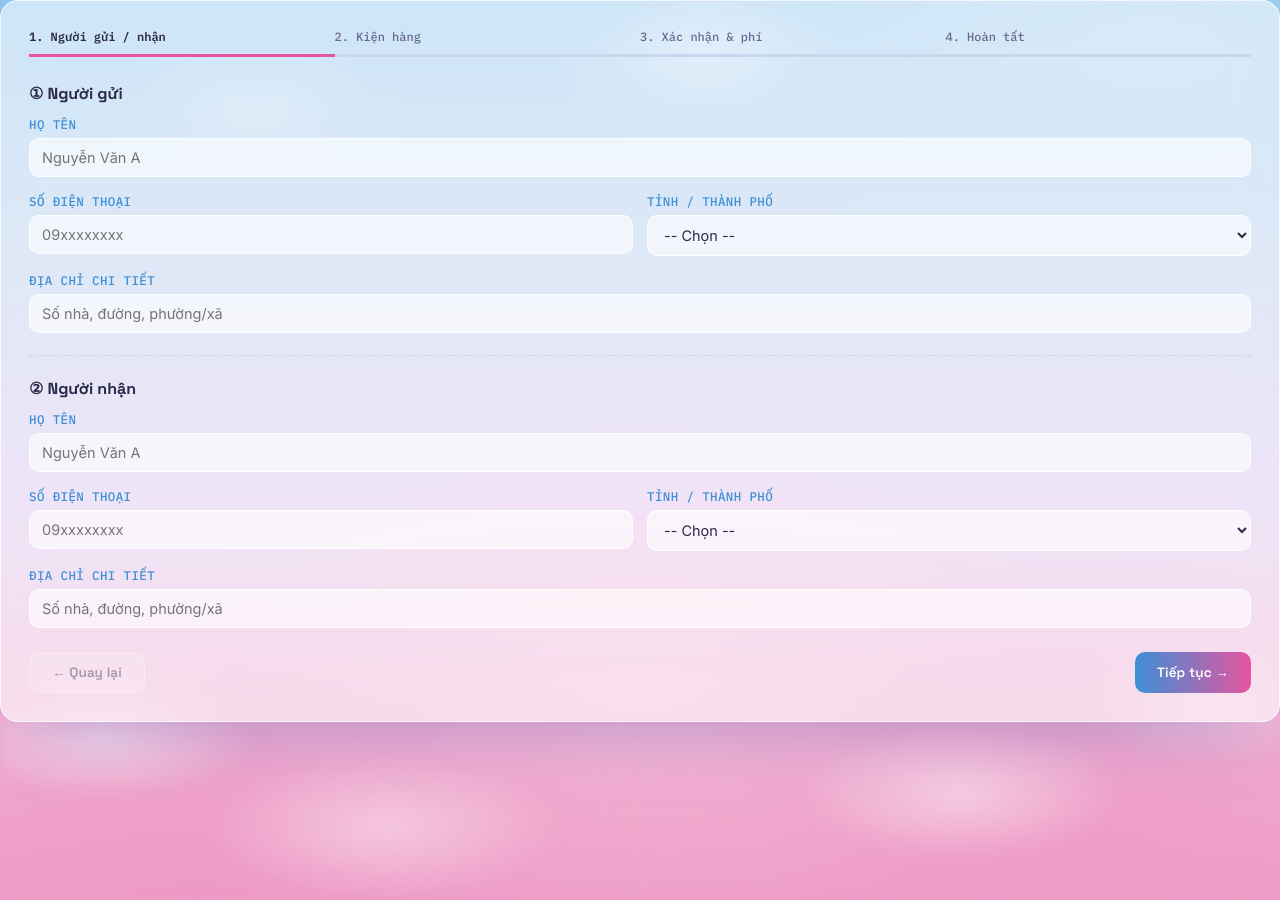
Wizard › báo lỗi khi bước 1 để trống
Click the button "Tiếp tục →". click: (1193, 672)
box: [1135, 652, 1251, 693]
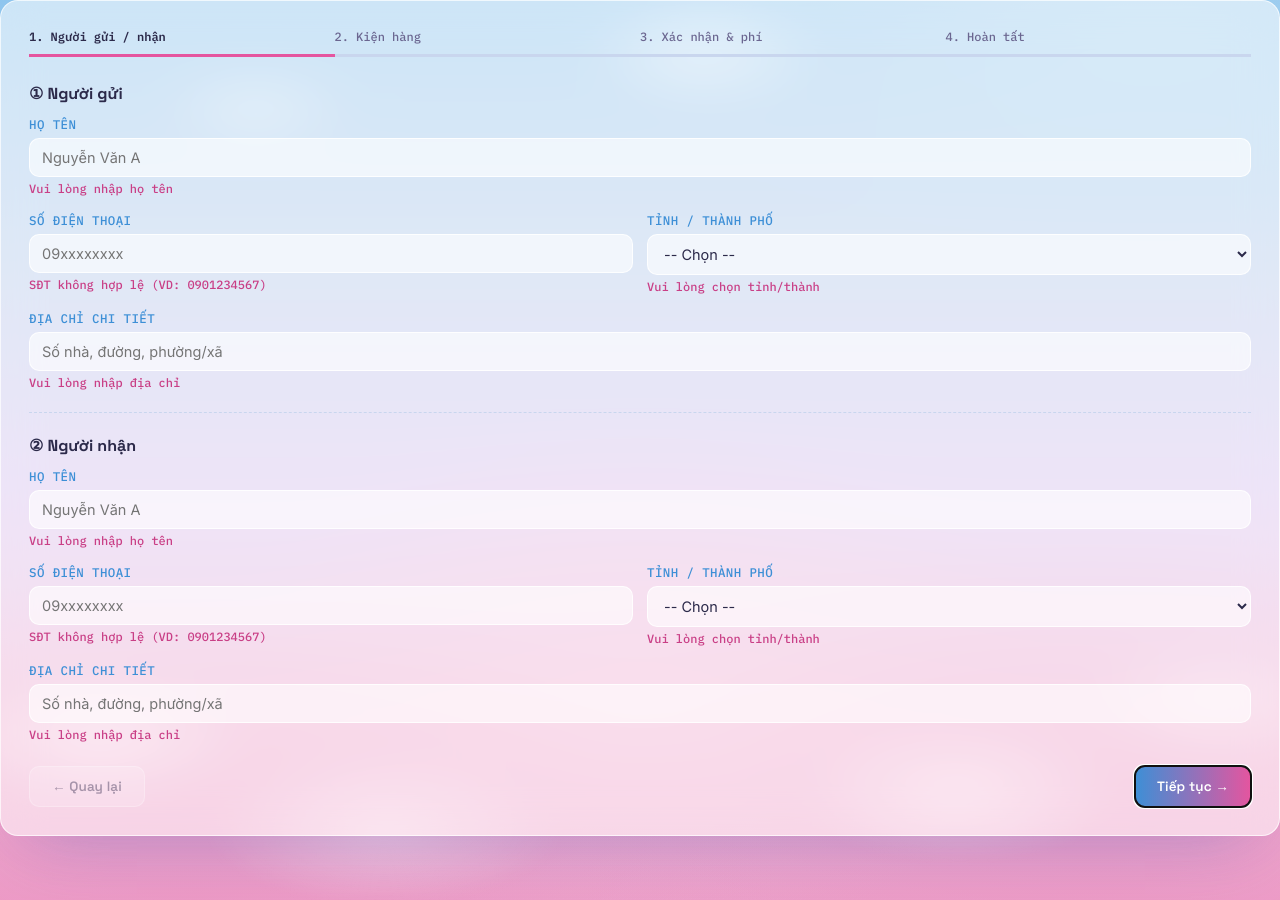
Now the text "Vui lòng nhập họ tên" is shown 2 times, box [29, 181, 173, 196]; [29, 533, 173, 548]
